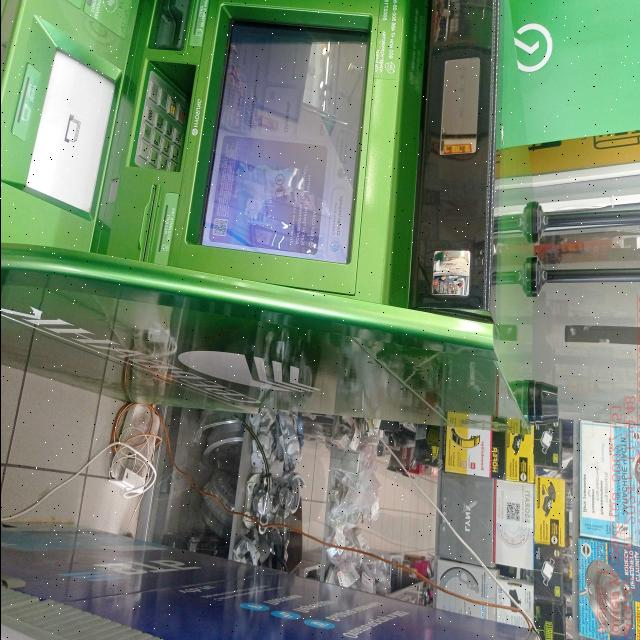bank: (0, 1, 533, 442)
